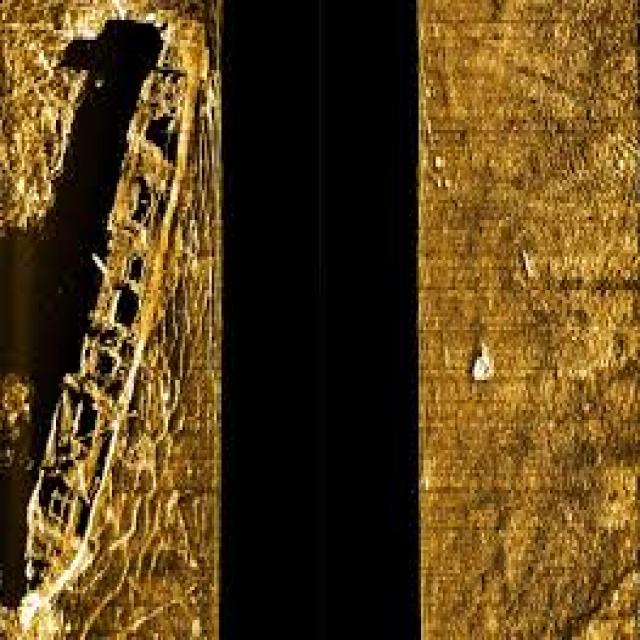ship: (24, 10, 204, 613)
